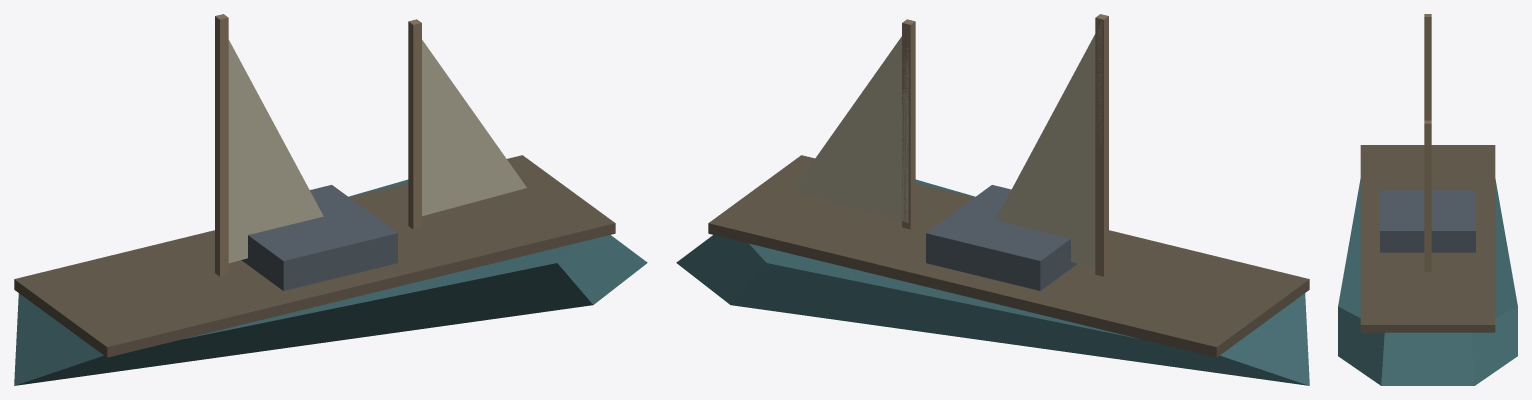
Rendered from schooner_west_bay.glb.
3 views of the same model, side by side, from view 1: azimuth 30°, elevation 25°; view 2: azimuth 150°, elevation 25°; view 3: azimuth 270°, elevation 25° (orthographic). The views are drawn at different scales.
Parts seen in each view (by area): view 1: Schooner_deck, Schooner_hull, Schooner_canvas, Schooner_cabin, Schooner_canvas.001, Schooner_mast, Schooner_mast.001; view 2: Schooner_deck, Schooner_hull, Schooner_canvas, Schooner_canvas.001, Schooner_cabin, Schooner_mast, Schooner_mast.001; view 3: Schooner_deck, Schooner_hull, Schooner_cabin, Schooner_mast.001, Schooner_mast.
Boxes of the visible parts, bbox=[...] form: Schooner_deck: bbox=[14, 155, 615, 357]; Schooner_hull: bbox=[14, 179, 647, 385]; Schooner_canvas: bbox=[228, 40, 323, 263]; Schooner_cabin: bbox=[241, 185, 397, 290]; Schooner_canvas.001: bbox=[422, 40, 526, 216]; Schooner_mast: bbox=[215, 14, 228, 276]; Schooner_mast.001: bbox=[408, 19, 421, 229]; Schooner_deck: bbox=[708, 155, 1309, 357]; Schooner_hull: bbox=[676, 179, 1309, 385]; Schooner_canvas: bbox=[995, 22, 1101, 268]; Schooner_canvas.001: bbox=[792, 36, 908, 222]; Schooner_cabin: bbox=[926, 185, 1077, 290]; Schooner_mast: bbox=[1095, 14, 1108, 276]; Schooner_mast.001: bbox=[902, 19, 915, 229]; Schooner_deck: bbox=[1360, 145, 1495, 332]; Schooner_hull: bbox=[1338, 179, 1517, 385]; Schooner_cabin: bbox=[1380, 190, 1475, 252]; Schooner_mast.001: bbox=[1424, 120, 1431, 271]; Schooner_mast: bbox=[1424, 14, 1431, 120].
Bounding box in the file's own units: 8.4 × 4.25 × 3.
